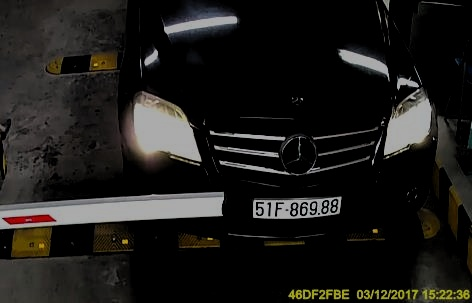plate: (252, 190, 340, 221)
